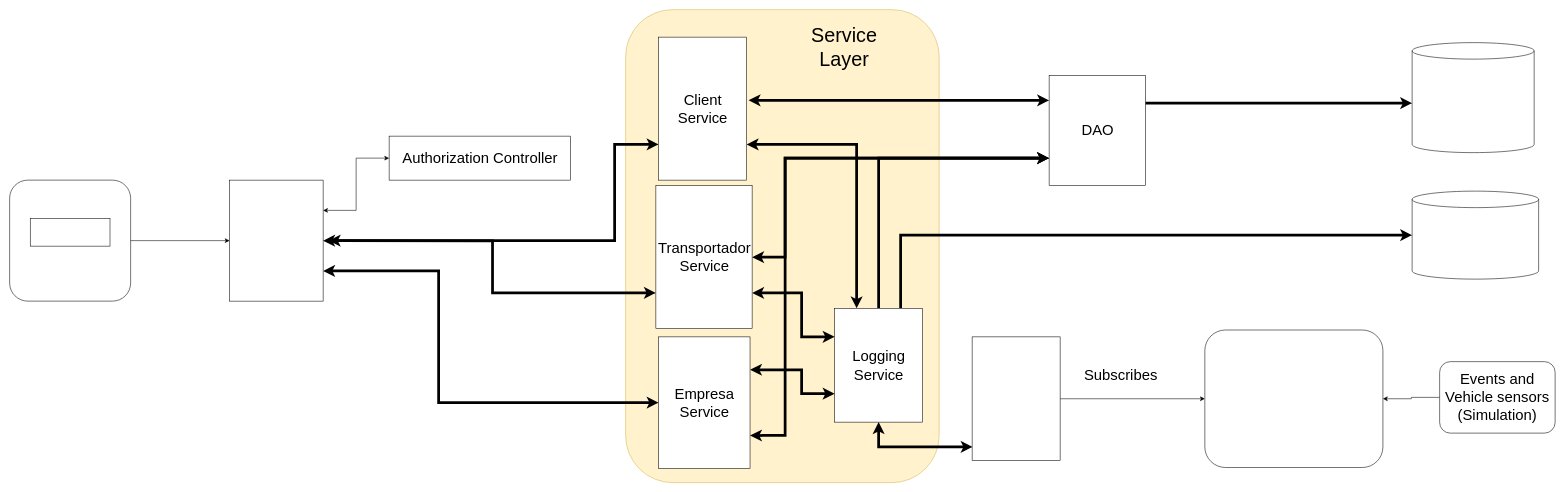
Image size: 1565x492. Some labels were removed from this diagram. The centre of each missing label's shape, as x and y in pixels:
"Event Bus RabbitMQ" belongs at point (1293, 398).
"Receiver" belongs at point (1016, 398).
"Rest Controller" belongs at point (276, 240).
"Web App" belongs at point (70, 232).
